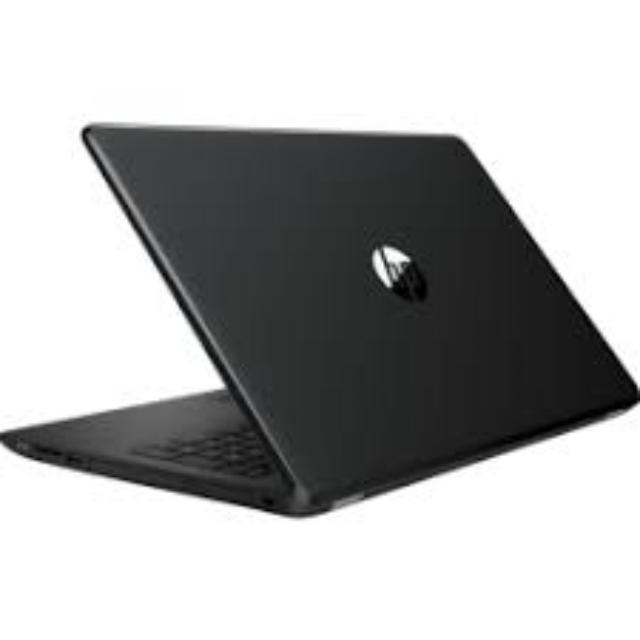Laptop: (3, 116, 639, 518)
